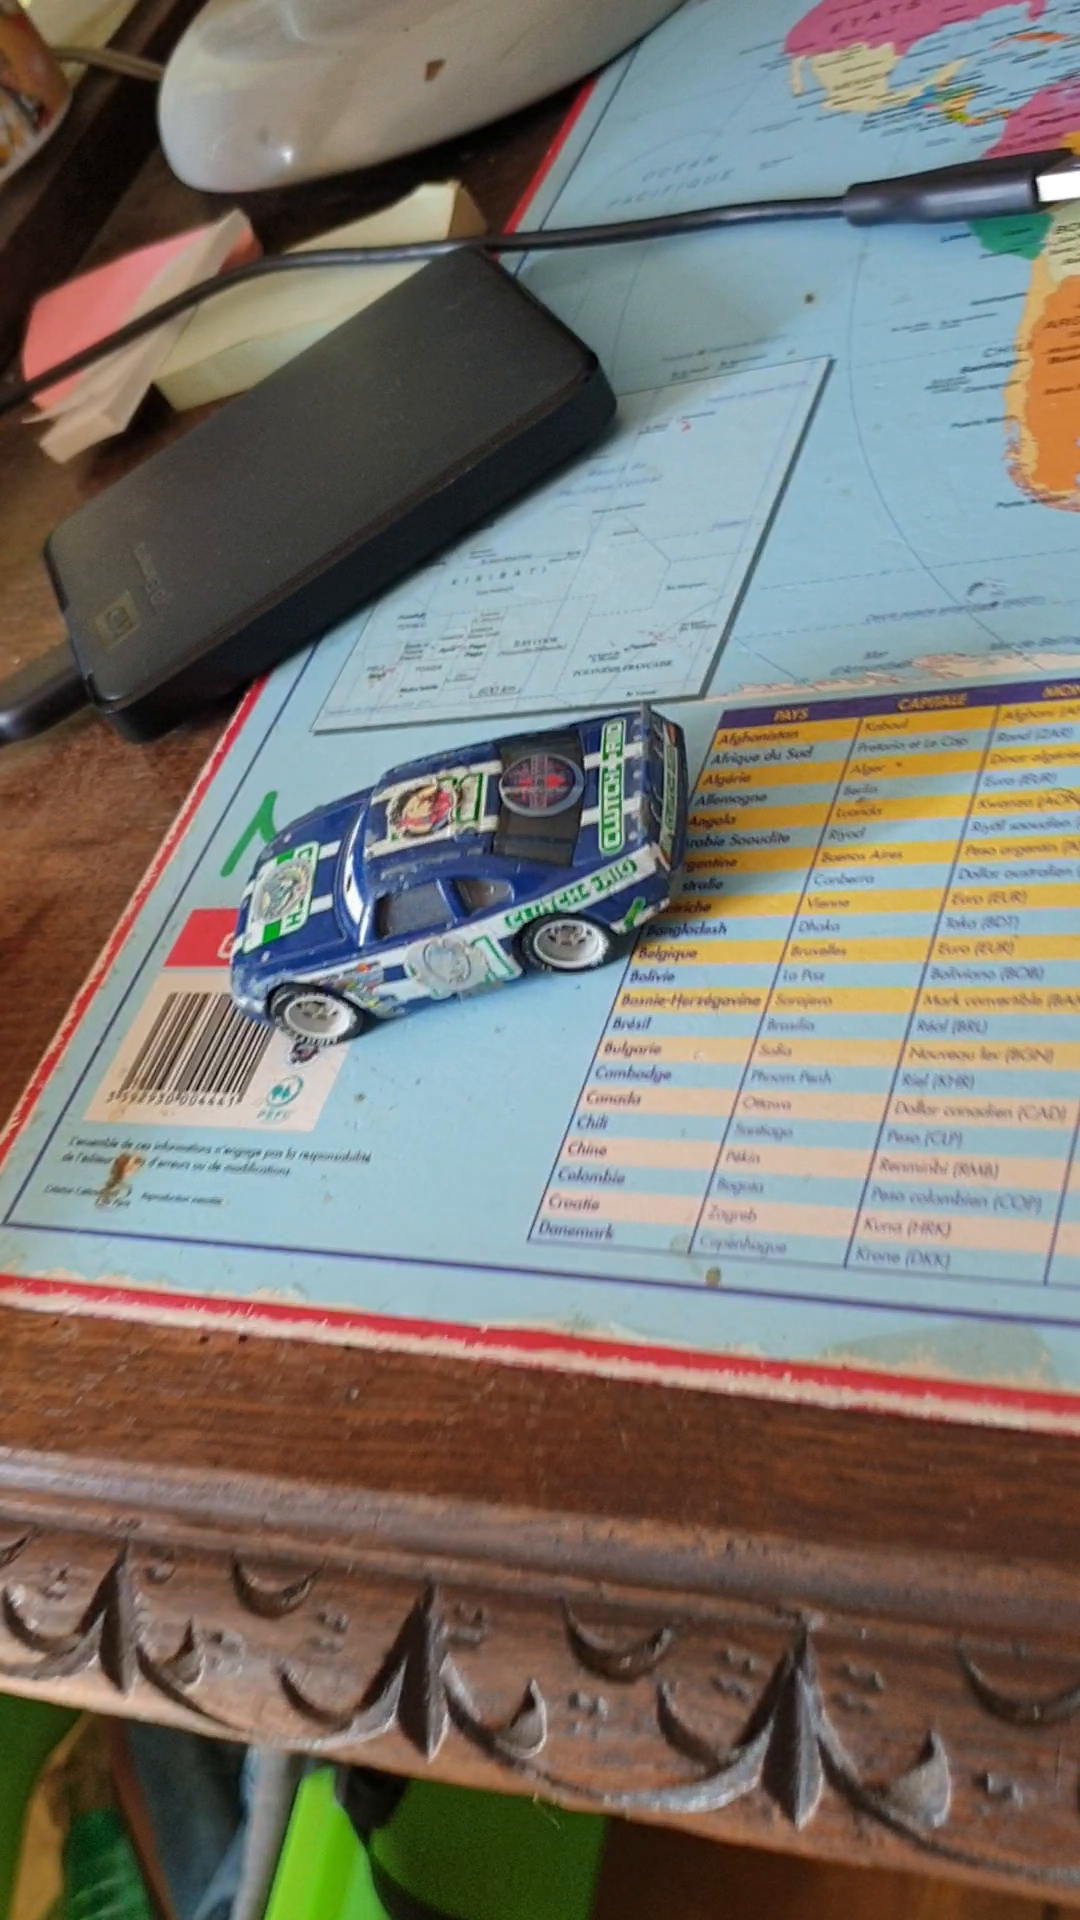cars: (229, 700, 692, 1044)
